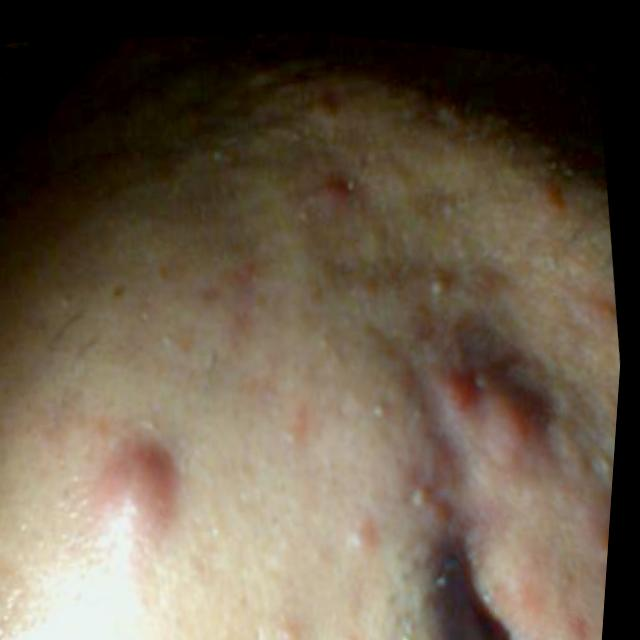nodule: (75, 422, 202, 566)
